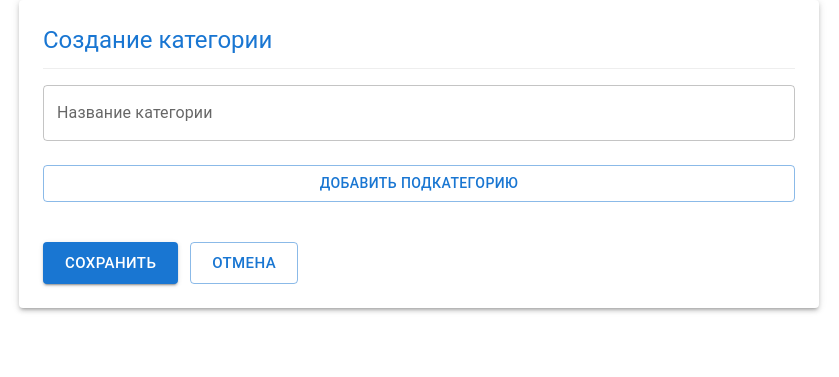
Scenario: CategoryForm › validates required fields
Step 1. Click the button "Сохранить" → x=111, y=263, box [43,242,178,284]
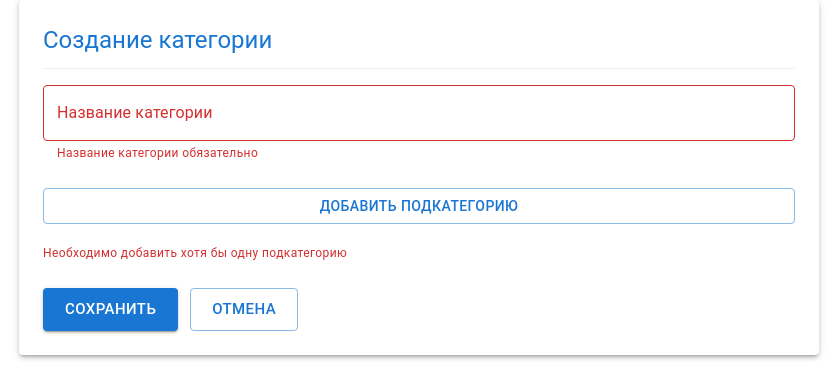
Expected: the text "Название категории обязательно" is shown, [57,146,258,160]
Expected: the text "Необходимо добавить хотя бы одну подкатегорию" is shown, [43,246,347,260]
